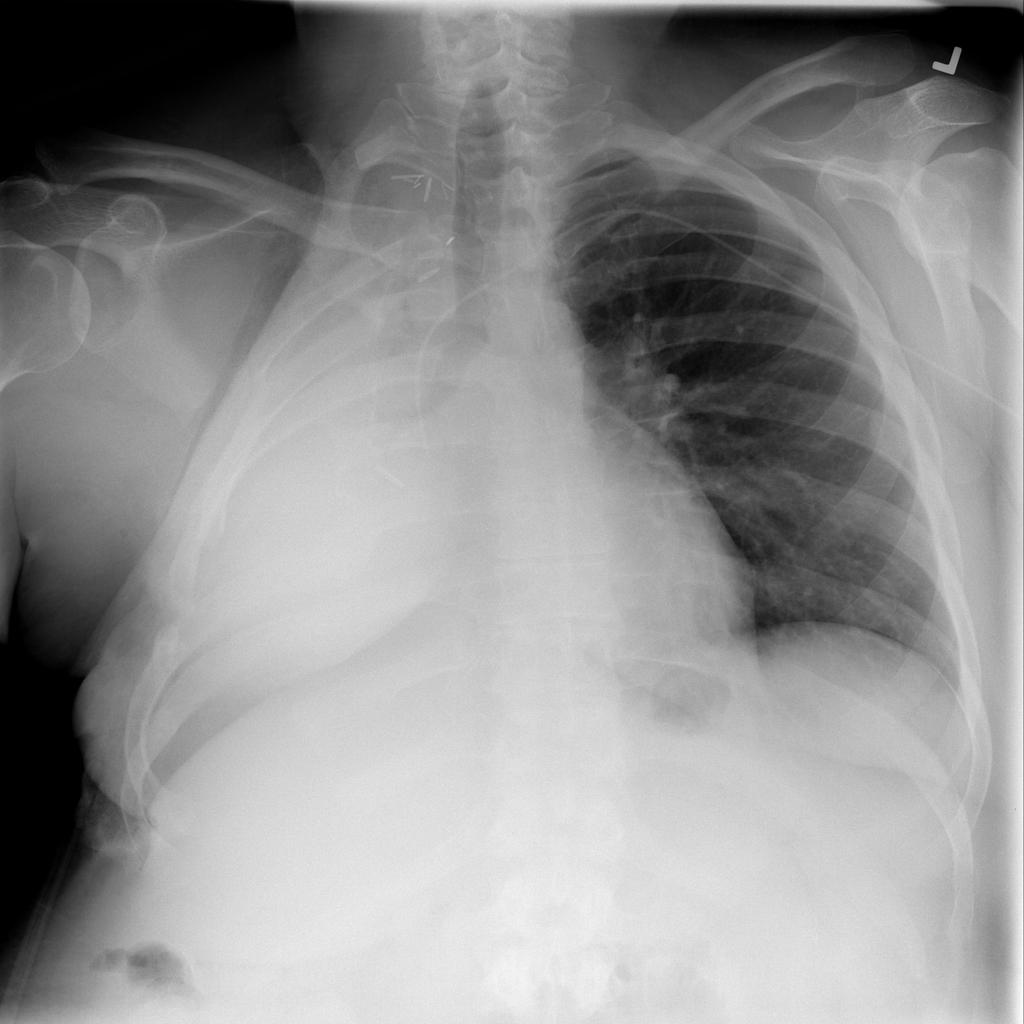nodule: (771, 257, 841, 327)
